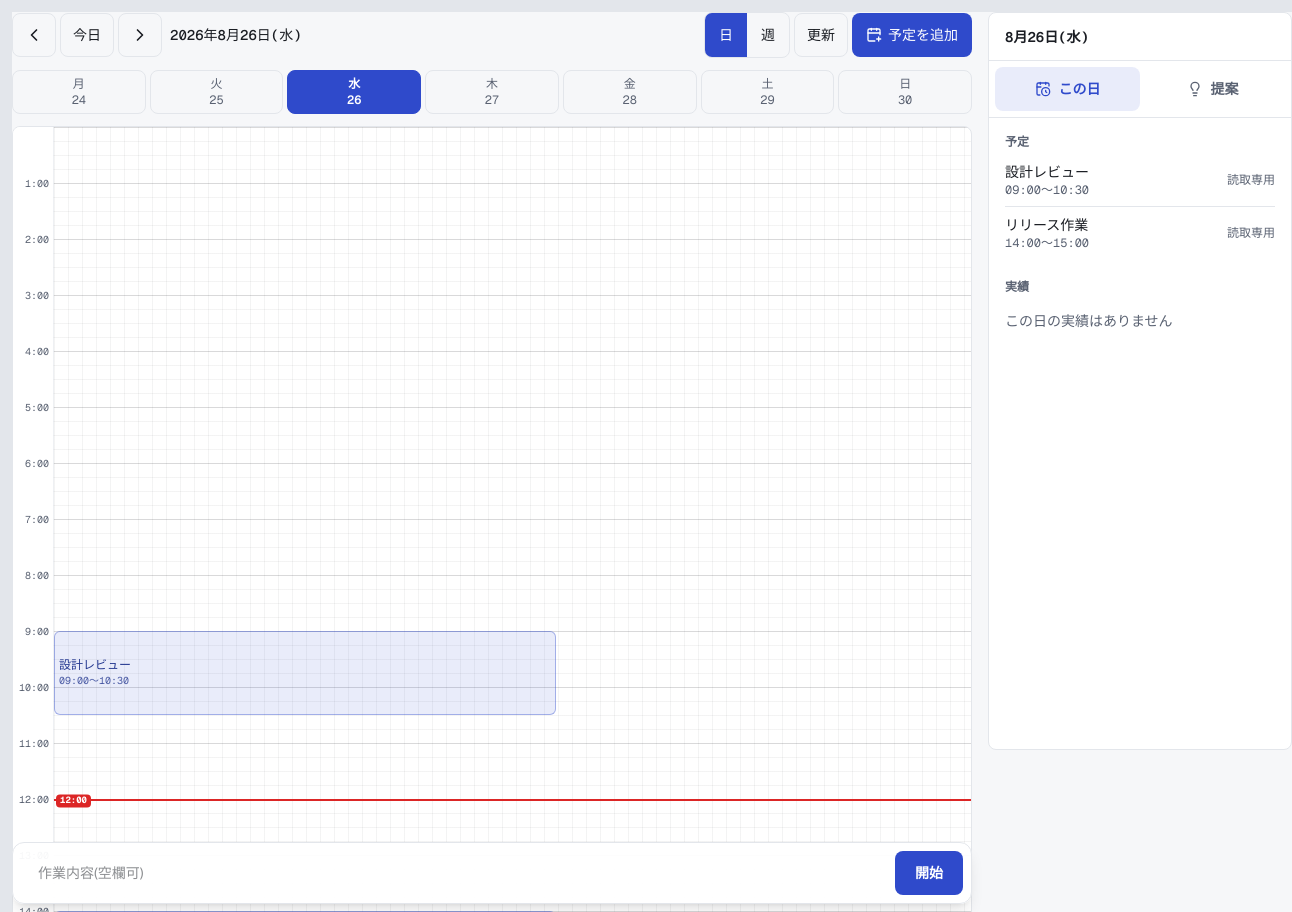
Scenario: フリータイマーの開始(S5〜S7) › S7: 開始アクションが失敗すると日本語エラーが表示され、フリータイマー入力に戻る
In the field labelled "作業内容(空欄可)": [456, 873] box [29,851,883,895], type "読書"
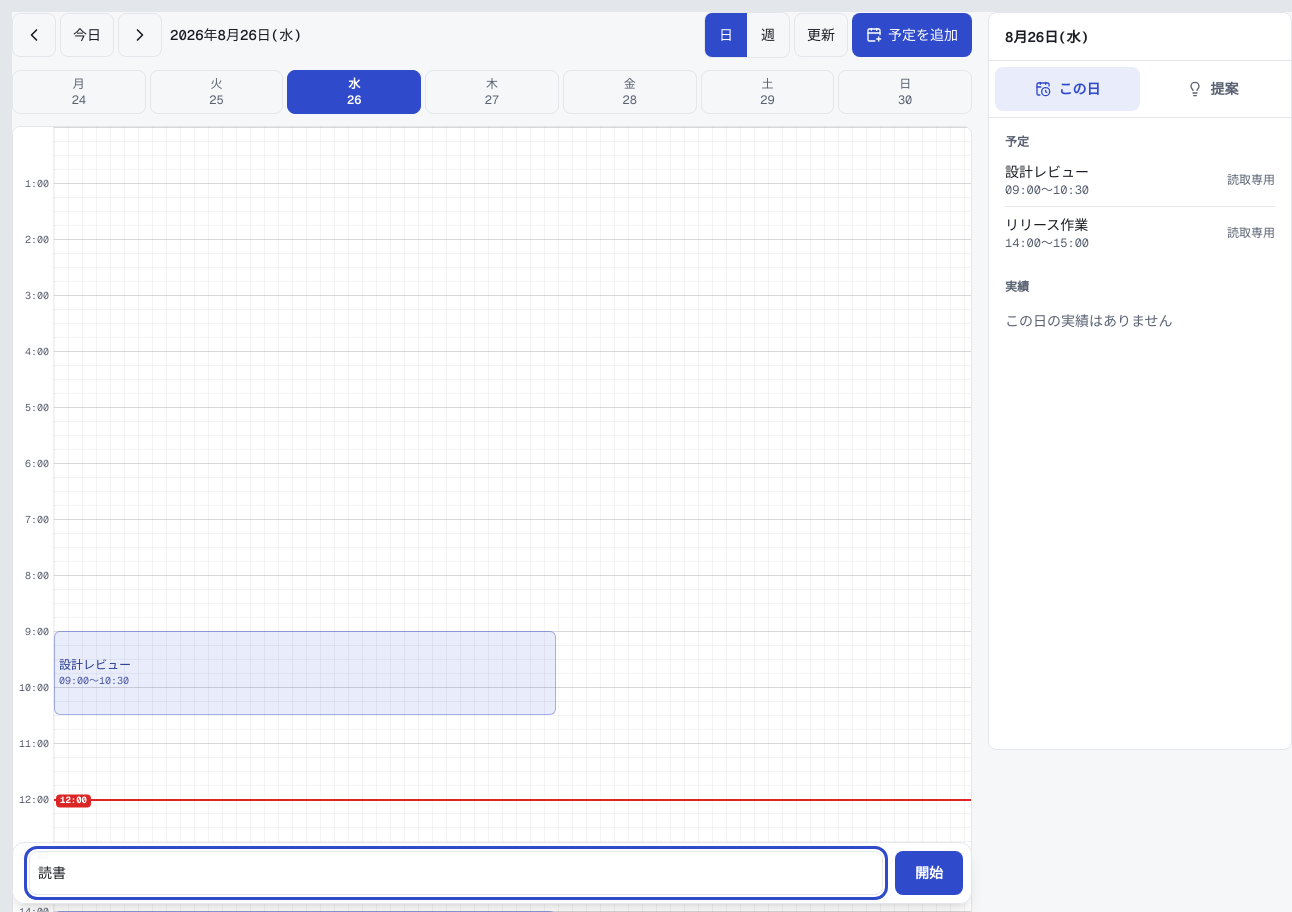
Click the button with aria-label "フリータイマーを開始": [929, 873] box [895,851,963,895]
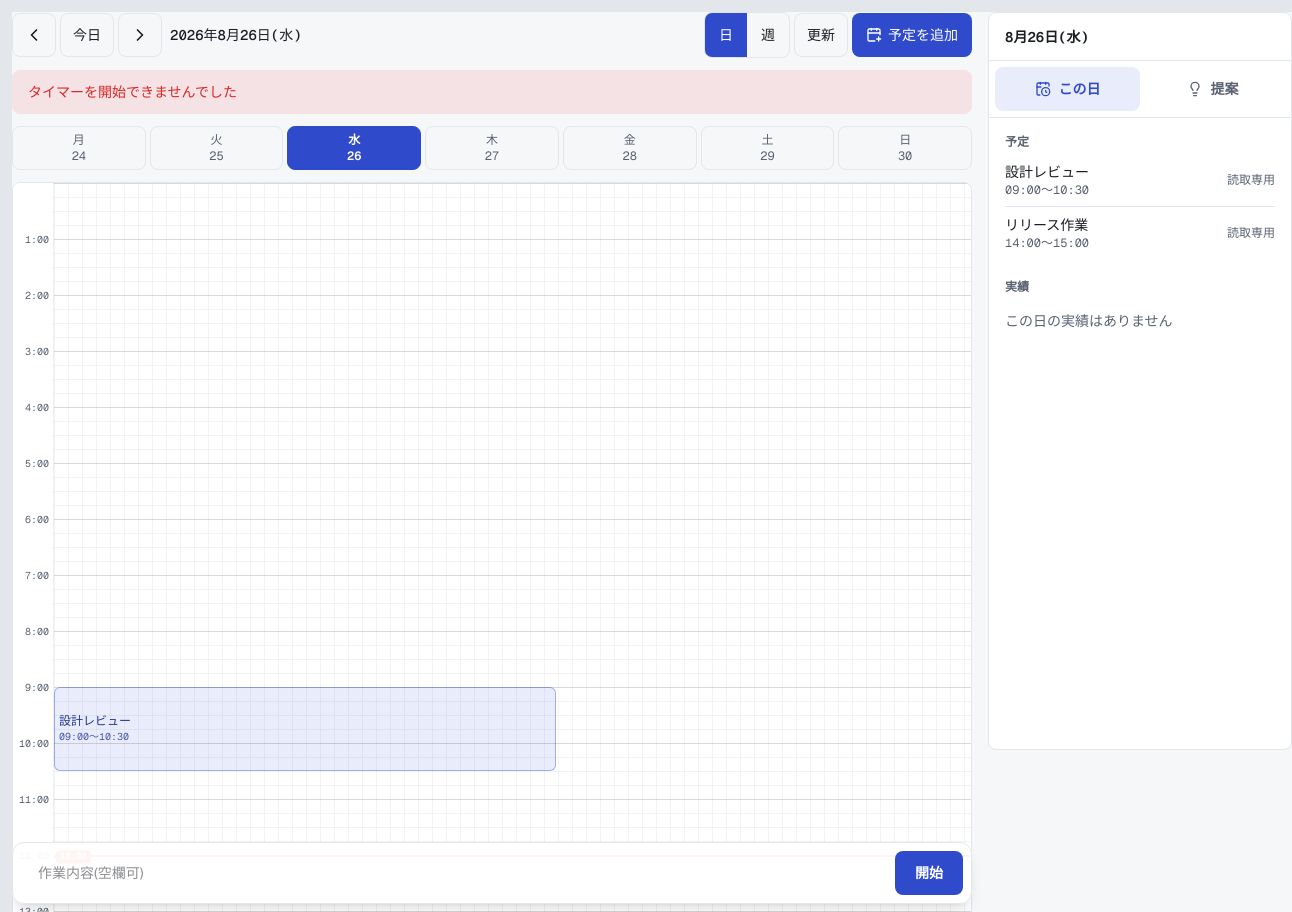
Expected: the form with test id "free-timer-bar" is shown, [12,842,972,904]
Expected: the text "タイマーを開始できませんでした" is shown, [12,70,972,114]
